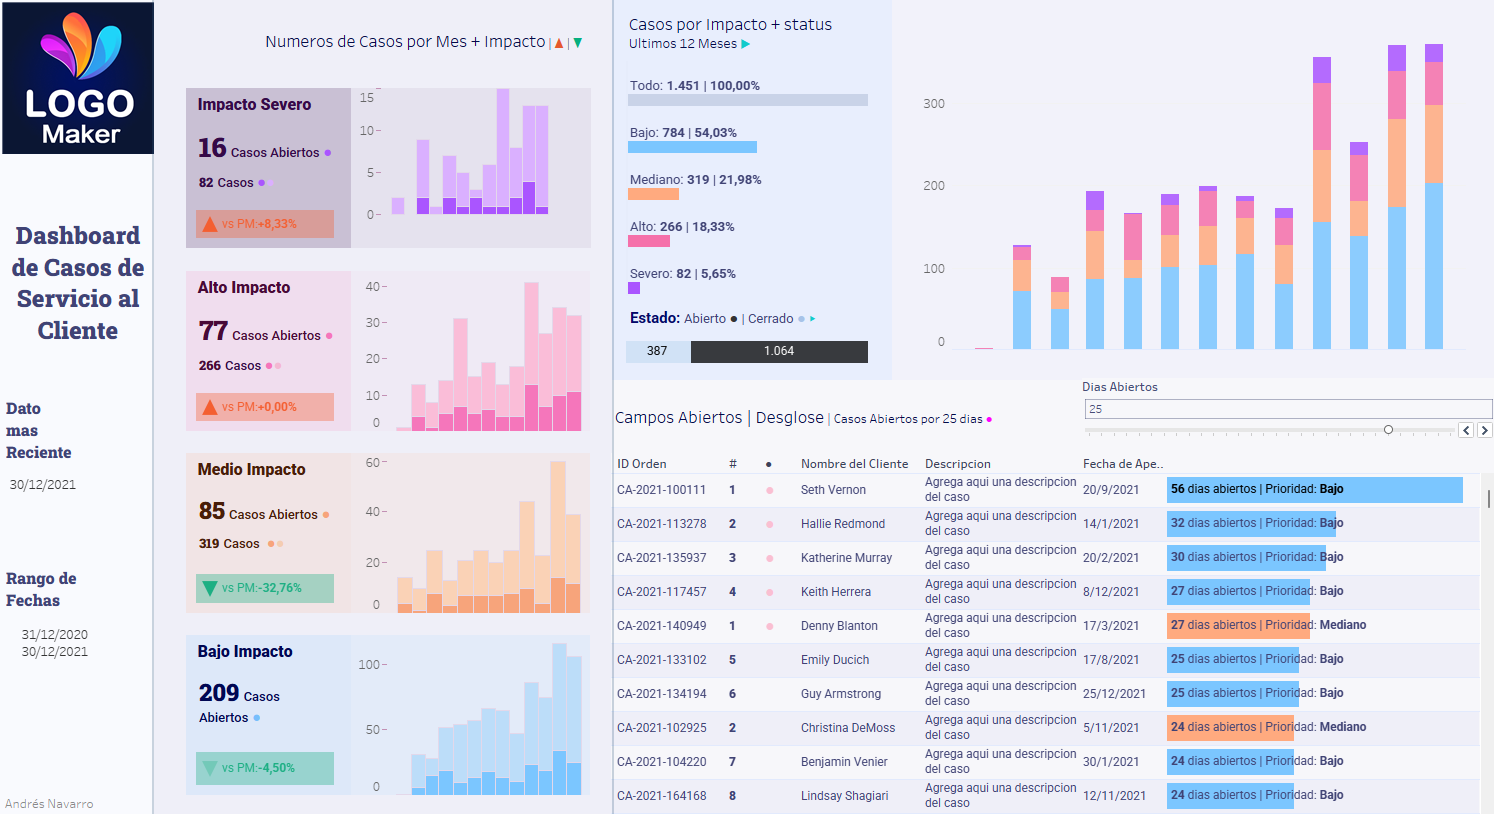

Layout of this report page (visuals, bound fields, positions):
{"tool":"tableau","page":{"name":"Servicio al Cliente","canvas":[1500,820],"ordinal":0},"visuals":[{"type":"image","box":[0,0,160,179]},{"type":"worksheet","title":"Casos por Mes","mark":"Bar","rows":["ID Orden"],"cols":["Fecha de Apertura"],"box":[894,0,604,382]},{"type":"text","box":[624,10,262,49]},{"type":"text","box":[165,24,426,32]},{"type":"worksheet","title":"Casos por Impacto","mark":"Automatic","rows":["Status (copia)"],"box":[624,59,262,243]},{"type":"text","box":[188,90,165,28]},{"type":"worksheet","title":"Casos Severos en el Tiempo","mark":"Bar","rows":["ID Orden"],"cols":["Fecha de Apertura"],"box":[353,90,240,160]},{"type":"worksheet","title":"BAN - Casos Severos","mark":"Automatic","box":[188,118,165,84]},{"type":"text","box":[0,179,160,212]},{"type":"worksheet","title":"% Diferencia","mark":"Automatic","cols":["Calculation_1148417919408865285","Calculation_1148417919408881671"],"box":[188,202,165,48]},{"type":"text","box":[188,273,165,28]},{"type":"worksheet","title":"Casos Alta prioridad en el Tiempo","mark":"Bar","rows":["ID Orden"],"cols":["Fecha de Apertura"],"box":[353,273,239,160]},{"type":"worksheet","title":"BAN - Casos Alta Prioridad","mark":"Automatic","box":[188,301,165,84]},{"type":"worksheet","title":"Barra Abierto/Cerrado","mark":"Automatic","cols":["ID Orden"],"box":[624,302,262,71]},{"type":"parameter","param":"[Parameters].[Parámetro 1]","box":[1084,380,414,75]},{"type":"text","box":[614,382,470,74]},{"type":"worksheet","title":"% Diferencia Altos","mark":"Automatic","cols":["Calculation_1148417919408865285","Calculation_1148417919408881671"],"box":[188,385,165,48]},{"type":"worksheet","title":"Dato mas Reciente","mark":"Automatic","box":[0,391,160,109]},{"type":"text","box":[188,455,165,28]},{"type":"worksheet","title":"Casos Media prioridad en el Tiempo","mark":"Bar","rows":["ID Orden"],"cols":["Fecha de Apertura"],"box":[353,455,239,160]},{"type":"worksheet","title":"Tablas de Casos Recientes","mark":"Bar","rows":["ID Orden","Calculation_1148417919500341273","Calculation_1148417919500853274","Nombre del Cliente","Calculation_1148417919500017688","Fecha de Apertura"],"cols":["Dias Abiertos"],"box":[613,455,886,365]},{"type":"worksheet","title":"BAN - Casos Media Prioridad","mark":"Automatic","box":[188,483,165,83]},{"type":"blank","box":[0,500,160,61]},{"type":"worksheet","title":"Rango de Fechas","mark":"Automatic","box":[0,561,160,119]},{"type":"worksheet","title":"% Diferencia Media","mark":"Automatic","cols":["Calculation_1148417919408865285","Calculation_1148417919408881671"],"box":[188,566,165,49]},{"type":"text","box":[188,637,165,28]},{"type":"worksheet","title":"Casos Baja prioridad en el Tiempo","mark":"Bar","rows":["ID Orden"],"cols":["Fecha de Apertura"],"box":[353,637,239,160]},{"type":"worksheet","title":"BAN - Casos Baja Prioridad ","mark":"Automatic","box":[188,665,165,79]},{"type":"blank","box":[0,680,160,113]},{"type":"worksheet","title":"% Diferencia bajos","mark":"Automatic","cols":["Calculation_1148417919408865285","Calculation_1148417919408881671"],"box":[188,744,165,53]},{"type":"text","box":[0,793,160,25]}]}

Visuals, with their boxes in screenshot pixels (x1, y1, x2, y2), scaled from the page's 1500x820 canvas onto the 1494x814 screenshot:
image: select_region(0, 0, 159, 178)
"Casos por Mes" worksheet (Bar marks): select_region(890, 0, 1492, 379)
text: select_region(622, 10, 882, 59)
text: select_region(164, 24, 589, 56)
"Casos por Impacto" worksheet: select_region(622, 59, 882, 300)
text: select_region(187, 89, 352, 117)
"Casos Severos en el Tiempo" worksheet (Bar marks): select_region(352, 89, 591, 248)
"BAN - Casos Severos" worksheet: select_region(187, 117, 352, 201)
text: select_region(0, 178, 159, 388)
"% Diferencia" worksheet: select_region(187, 201, 352, 248)
text: select_region(187, 271, 352, 299)
"Casos Alta prioridad en el Tiempo" worksheet (Bar marks): select_region(352, 271, 590, 430)
"BAN - Casos Alta Prioridad" worksheet: select_region(187, 299, 352, 382)
"Barra Abierto/Cerrado" worksheet: select_region(622, 300, 882, 370)
parameter: select_region(1080, 377, 1492, 452)
text: select_region(612, 379, 1080, 453)
"% Diferencia Altos" worksheet: select_region(187, 382, 352, 430)
"Dato mas Reciente" worksheet: select_region(0, 388, 159, 496)
text: select_region(187, 452, 352, 479)
"Casos Media prioridad en el Tiempo" worksheet (Bar marks): select_region(352, 452, 590, 610)
"Tablas de Casos Recientes" worksheet (Bar marks): select_region(611, 452, 1493, 813)
"BAN - Casos Media Prioridad" worksheet: select_region(187, 479, 352, 562)
blank: select_region(0, 496, 159, 557)
"Rango de Fechas" worksheet: select_region(0, 557, 159, 675)
"% Diferencia Media" worksheet: select_region(187, 562, 352, 610)
text: select_region(187, 632, 352, 660)
"Casos Baja prioridad en el Tiempo" worksheet (Bar marks): select_region(352, 632, 590, 791)
"BAN - Casos Baja Prioridad " worksheet: select_region(187, 660, 352, 739)
blank: select_region(0, 675, 159, 787)
"% Diferencia bajos" worksheet: select_region(187, 739, 352, 791)
text: select_region(0, 787, 159, 812)
